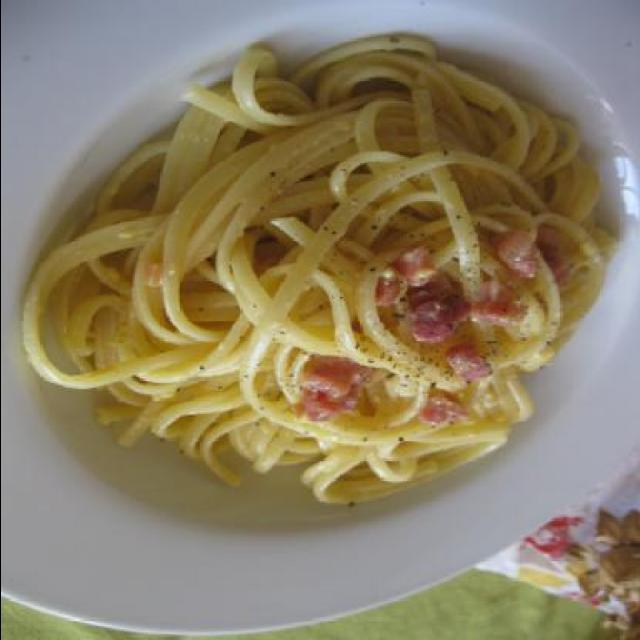Pasta with carbonara sauce: (15, 34, 631, 503)
